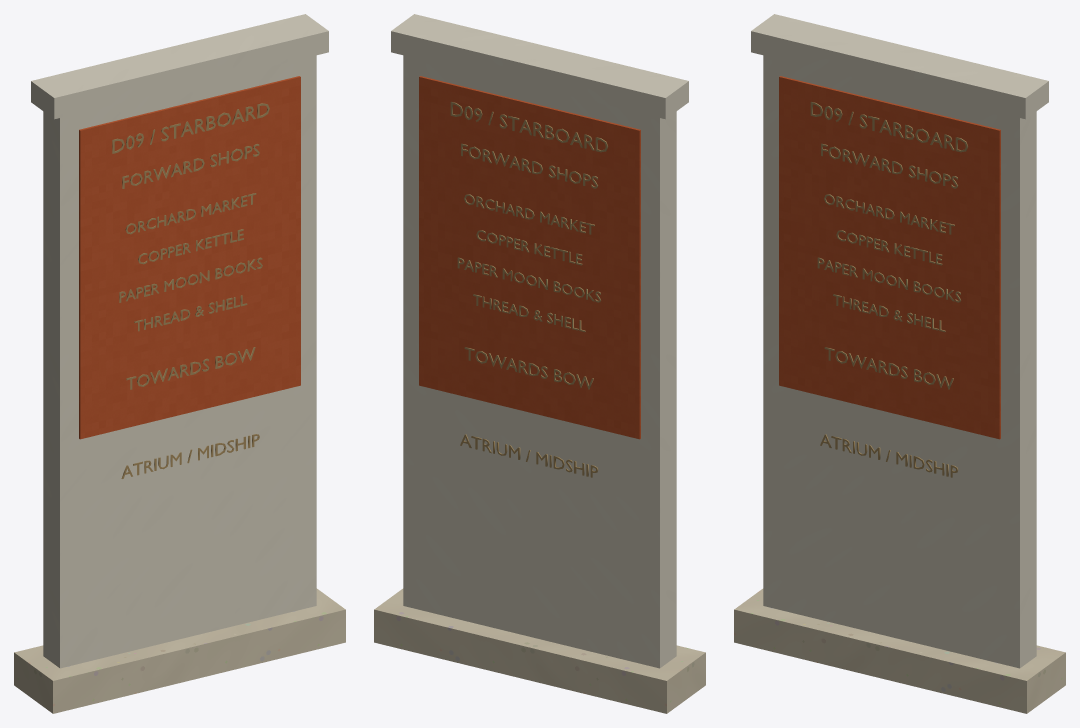
The model's file is guide_starboard_forward_r003.glb.
The picture shows the model from 3 angles, left to right: view 1: azimuth 30°, elevation 25°; view 2: azimuth 150°, elevation 25°; view 3: azimuth 330°, elevation 25°; orthographic projection.
Visible parts, largest first — view 1: profiled_column, recessed_orange_directory, weighted_plinth, crown, heading, district, atrium, venue_2, orientation, venue_0, venue_3, venue_1; view 2: profiled_column, recessed_orange_directory_back, weighted_plinth, crown, heading_back, district_back, atrium_back, venue_2_back, orientation_back, venue_0_back, venue_3_back, venue_1_back; view 3: profiled_column, recessed_orange_directory, weighted_plinth, crown, heading, district, atrium, venue_2, orientation, venue_0, venue_3, venue_1.
Boxes of the visible parts, x1=… form: profiled_column: x1=43, y1=55, x2=316, y2=668; recessed_orange_directory: x1=79, y1=76, x2=300, y2=439; weighted_plinth: x1=14, y1=588, x2=345, y2=713; crown: x1=31, y1=14, x2=328, y2=119; heading: x1=112, y1=103, x2=269, y2=153; district: x1=122, y1=144, x2=259, y2=188; atrium: x1=121, y1=434, x2=259, y2=478; venue_2: x1=119, y1=257, x2=262, y2=302; orientation: x1=126, y1=347, x2=255, y2=389; venue_0: x1=125, y1=193, x2=256, y2=234; venue_3: x1=134, y1=295, x2=247, y2=331; venue_1: x1=138, y1=229, x2=243, y2=264; profiled_column: x1=403, y1=55, x2=676, y2=668; recessed_orange_directory_back: x1=419, y1=76, x2=640, y2=439; weighted_plinth: x1=374, y1=588, x2=705, y2=713; crown: x1=391, y1=14, x2=688, y2=119; heading_back: x1=450, y1=101, x2=607, y2=152; district_back: x1=461, y1=143, x2=597, y2=188; atrium_back: x1=460, y1=434, x2=598, y2=477; venue_2_back: x1=457, y1=257, x2=600, y2=302; orientation_back: x1=464, y1=347, x2=593, y2=389; venue_0_back: x1=464, y1=194, x2=594, y2=234; venue_3_back: x1=473, y1=294, x2=585, y2=332; venue_1_back: x1=476, y1=230, x2=582, y2=265; profiled_column: x1=763, y1=55, x2=1036, y2=668; recessed_orange_directory: x1=779, y1=76, x2=1000, y2=439; weighted_plinth: x1=734, y1=588, x2=1065, y2=713; crown: x1=751, y1=14, x2=1048, y2=119; heading: x1=810, y1=101, x2=967, y2=152; district: x1=821, y1=143, x2=957, y2=188; atrium: x1=820, y1=434, x2=958, y2=477; venue_2: x1=817, y1=257, x2=960, y2=302; orientation: x1=824, y1=347, x2=953, y2=389; venue_0: x1=824, y1=194, x2=954, y2=234; venue_3: x1=833, y1=294, x2=945, y2=332; venue_1: x1=836, y1=230, x2=942, y2=265.
Bounding box in the file's own units: 1.3 × 2.58 × 0.3.
4 materials, 4 textured.
